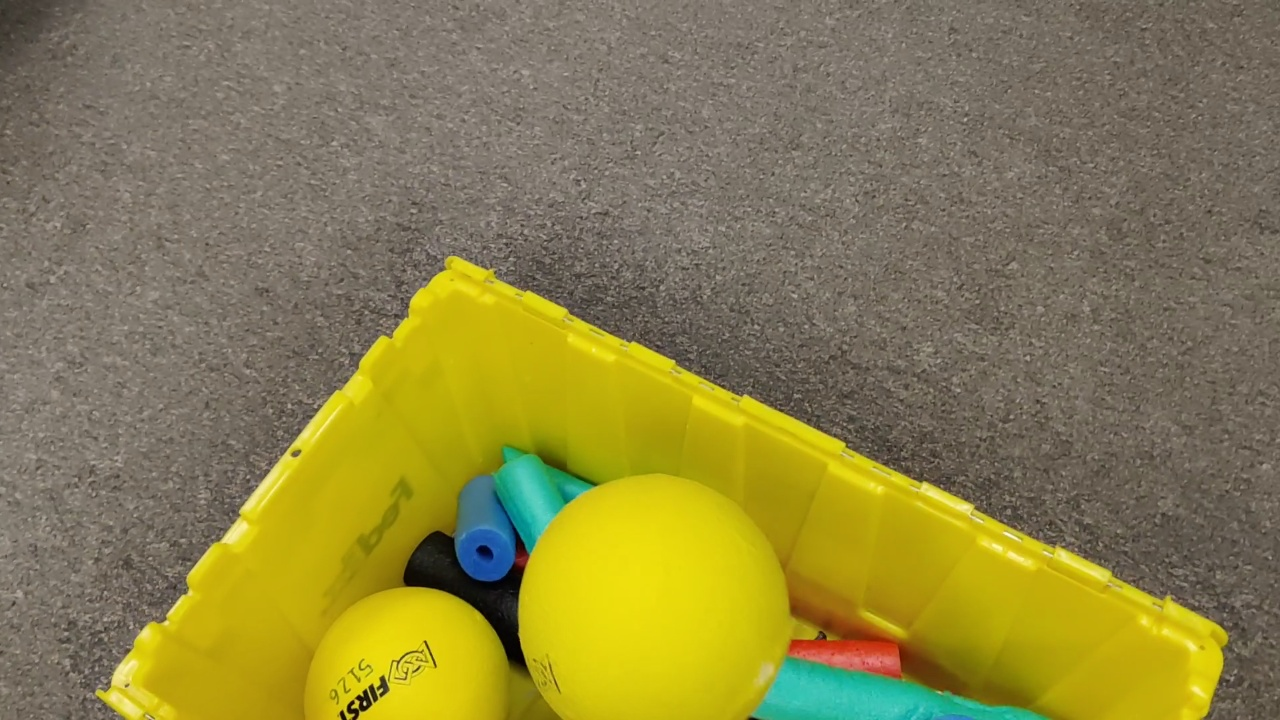Ball: (518, 474, 790, 720), (301, 588, 506, 720)
